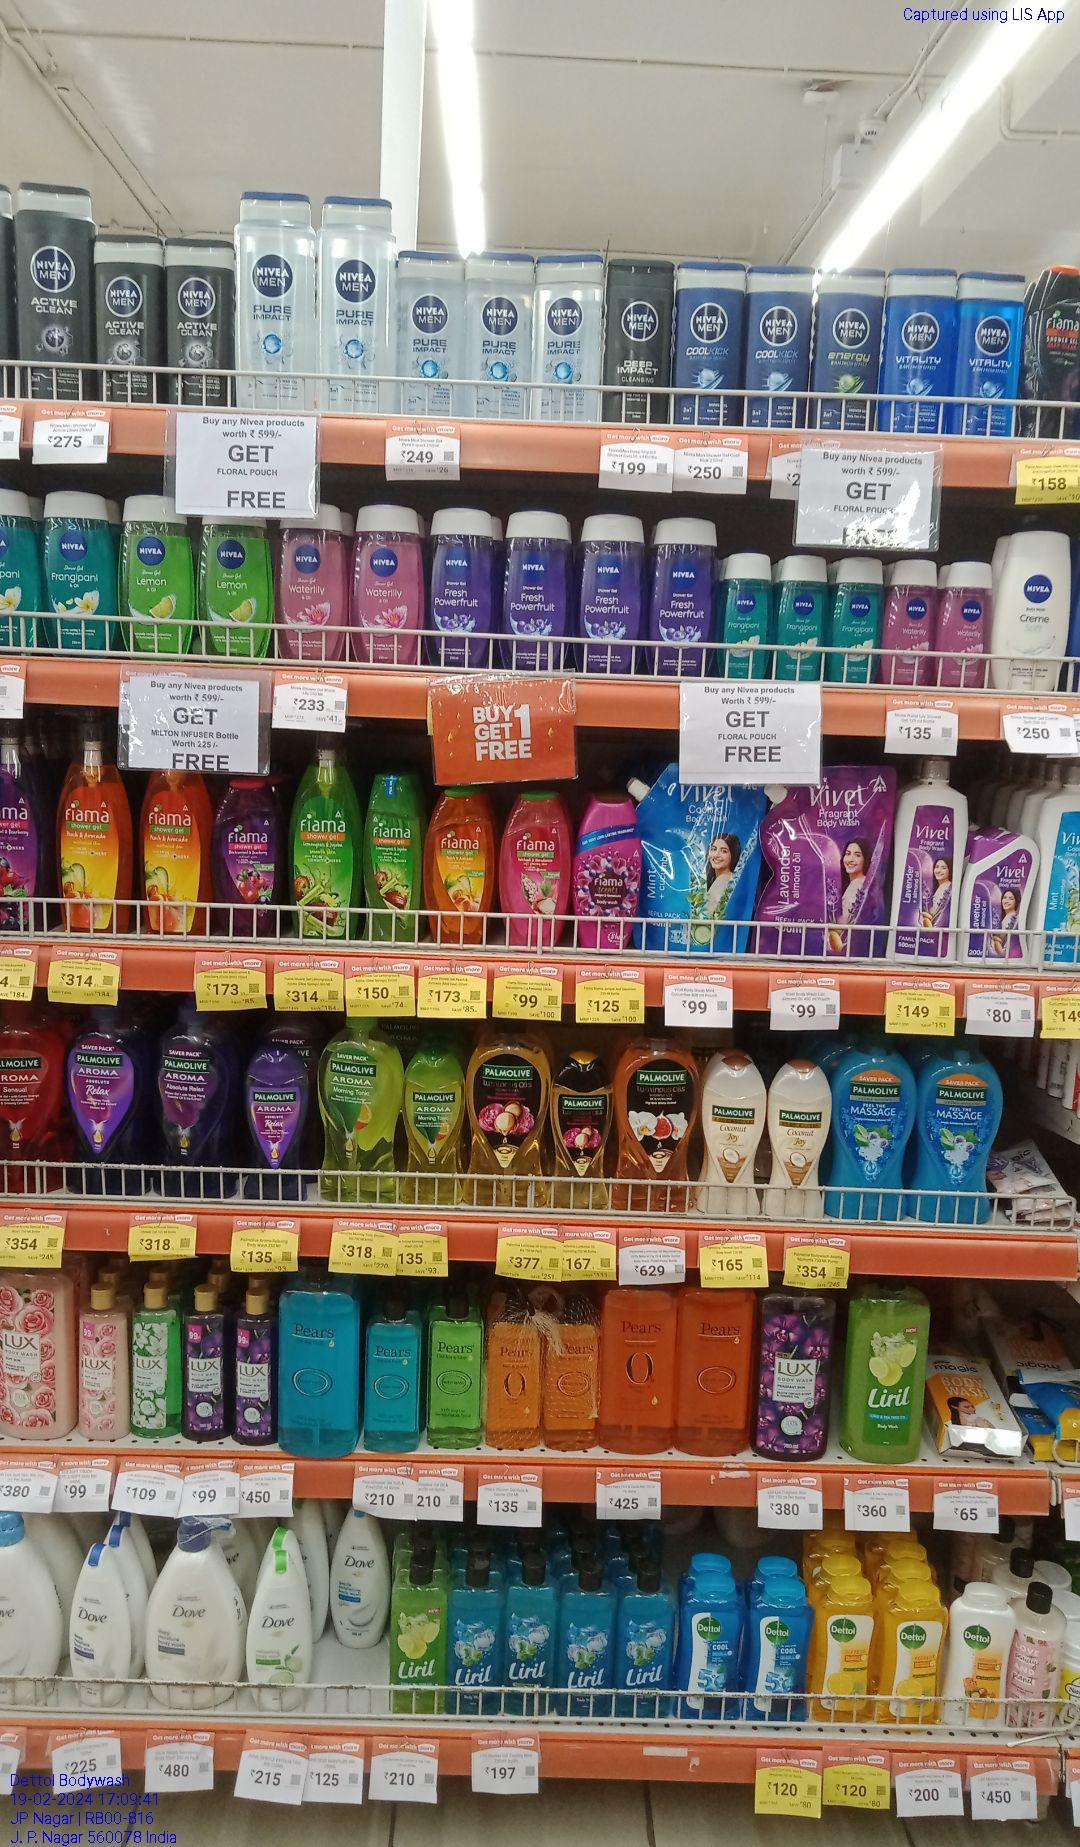Dettol_Bodywash_Cool: (676, 1575, 746, 1731), (750, 1571, 810, 1724)
Dettol_Bodywash_Refresh: (877, 1584, 944, 1731), (814, 1576, 873, 1730)
Dettol_Nourish_Body_Wash_250ML: (948, 1584, 1016, 1730)
Dove_Deep_Moisture_Body_Wash_250ML: (68, 1546, 134, 1707)
Dove_Gentle_Exfoliating_Body_Wash_250ML: (328, 1513, 387, 1648)
Dove_Refreshing_Body_Wash_250ML: (246, 1550, 312, 1715)
Fiama_Shower_Gel_Lemongrass_and_Jojoba_250ML: (363, 769, 420, 945)
Fiama_Shower_Gel_Patchouli_and_Macadamia_250ML: (499, 789, 575, 947)
Fiama_Shower_Gel_Peach_and_Avocado_250ML: (426, 785, 491, 943)
Liril_Cooling_Mint_Body_Wash_250ML: (447, 1555, 503, 1716), (616, 1572, 674, 1721), (558, 1566, 612, 1720), (505, 1559, 554, 1721)
Liril_Lime_and_Tea_Tree_Oil_Body_Wash_250ML: (390, 1555, 446, 1716)
Lux_Black_Orchid_Scent_and_Juniper_Oil_Body_Wash_245ML: (185, 1285, 230, 1440), (234, 1289, 275, 1445)
Lux_Body_Wash_Skin_Detox_Freesia_Scent_and_Alove_Vera_245ML: (129, 1283, 181, 1437)
Nivea_Creme_Soft_Body_Wash_250ML: (991, 527, 1074, 692)
Nivea_Shower_Gel_Frangipani_and_Oil_250ML: (40, 486, 117, 658)
Nivea_Shower_Gel_Fresh_Powerfruit_250ML: (573, 512, 649, 668), (429, 509, 503, 668), (507, 505, 568, 668), (653, 510, 714, 670)
Nivea_Shower_Gel_Lemon_and_Oil_250ML: (122, 496, 193, 652), (201, 515, 274, 659)
Nivea_Shower_Gel_Waterlily_and_Oil_250ML: (354, 501, 424, 663), (279, 518, 348, 666)
Palmolive_Aroma_Morning_Tonic_Shower_Gel_250ML: (400, 1051, 462, 1206)
Palmolive_Aroma_Relax_250ML: (240, 1049, 307, 1203)
Palmolive_Luminous_Oils_Invigorating_Macadamia_Oil_With_Peony_250ML: (549, 1055, 613, 1207)
Pears_Pure_Glycerin_and_Lemon_Flower_Extracts_Body_Wash_250ML: (428, 1290, 481, 1449)
Pears_Pure_Glycerin_and_Mint_Extracts_Body_Wash_250ML: (364, 1293, 422, 1452)
